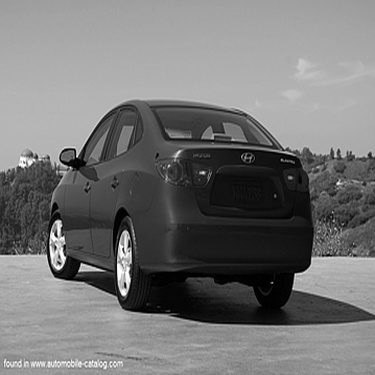car: (38, 93, 318, 315), (324, 173, 355, 193)
